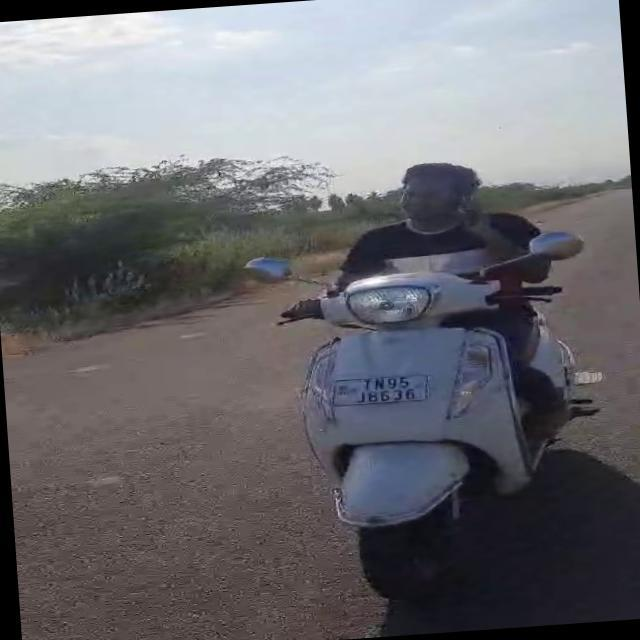USING_MOBILE: (452, 190, 528, 264)
